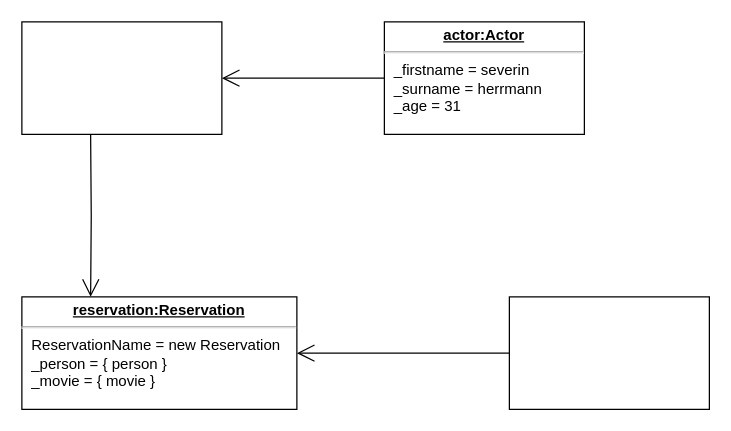
Image size: 731x431. Some labels were removed from this diagram. The shapes that lost their labels are listed below. From the top down, each one's centre as x and y in pixels, then its label:
At pixel 121 77: "movie:Movie _title = hobbit _cast = { actor }".
At pixel 608 352: "person:Person _firstname = peter _surname = fritz _age = 35".
